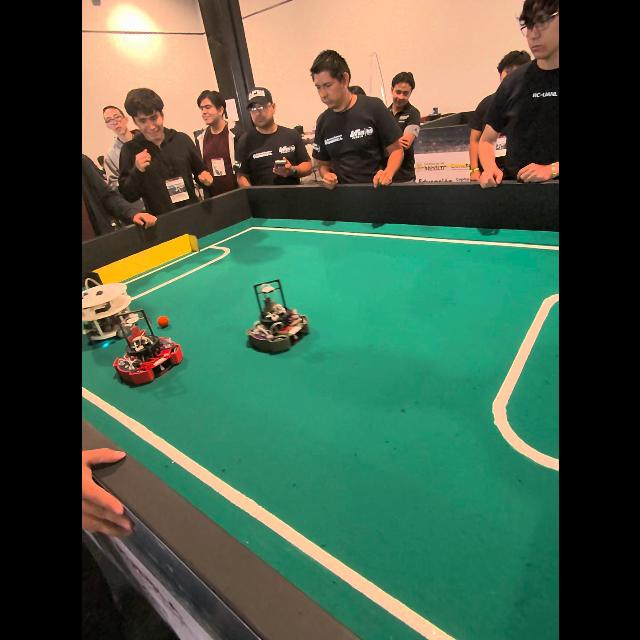ball: (157, 316, 168, 328)
goal: (93, 234, 198, 283)
robot: (112, 309, 182, 385), (246, 280, 308, 353), (81, 281, 132, 345)
